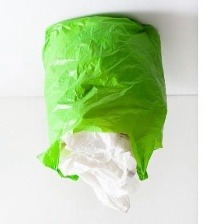plastic_bag: (31, 13, 169, 188), (55, 124, 145, 220)
